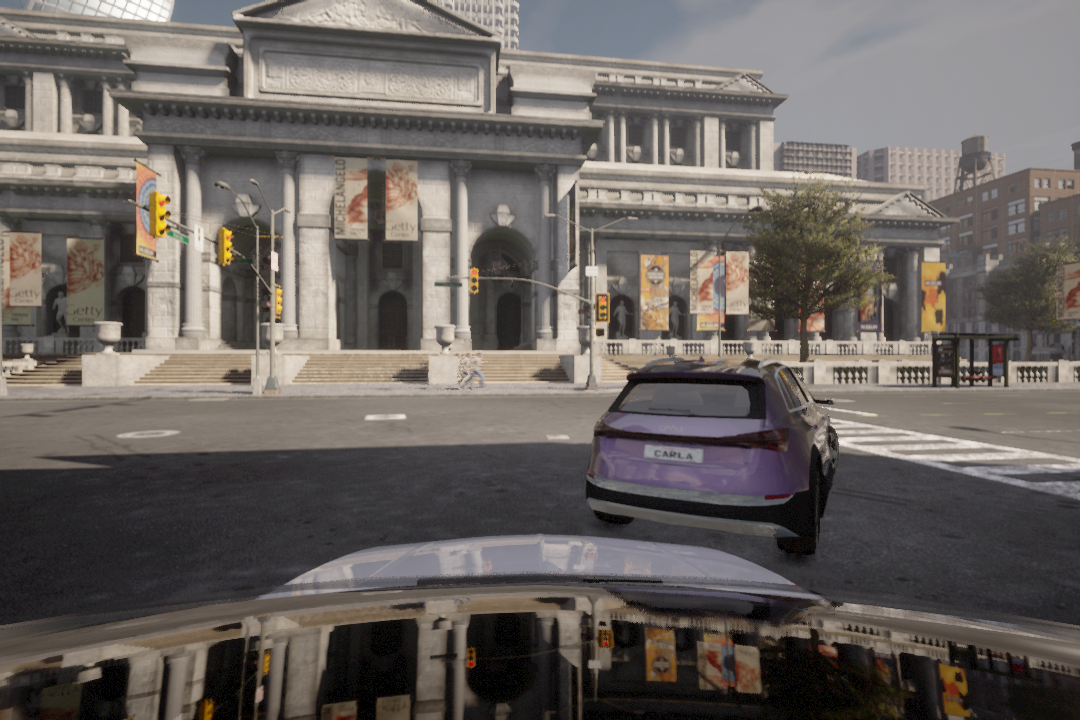TrafficLight: (148, 191, 172, 241), (217, 224, 234, 267), (594, 294, 614, 322), (468, 270, 482, 295)
walkside: (817, 400, 1080, 498)
